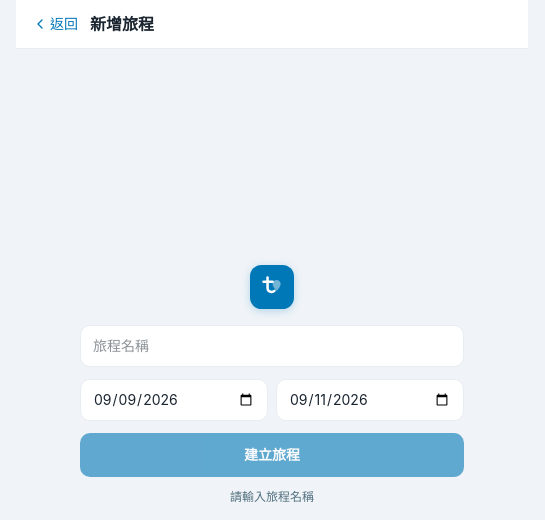
Test: NewTripPage › shows an error when creation fails
Type "東京" into the field with placeholder "旅程名稱" at point(272, 346), box [80,324,464,366]
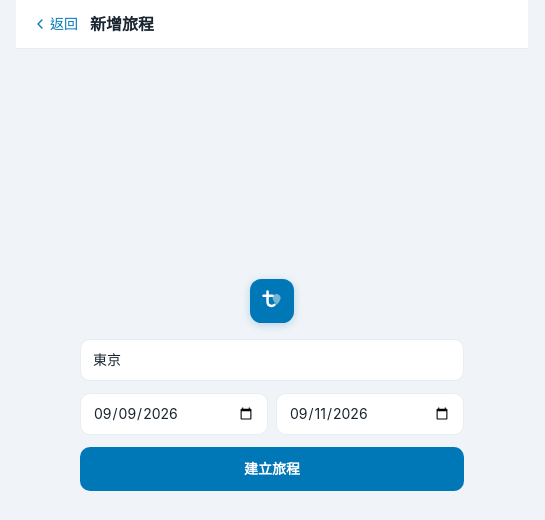
Type "2026-09-01" into the date field named "開始日期" at point(174, 414), box [80,392,268,434]
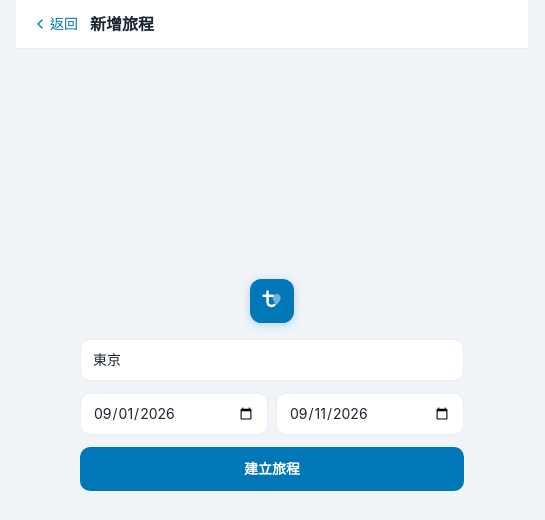
Type "2026-09-03" into the date field named "結束日期" at point(370, 414), box [276,392,464,434]
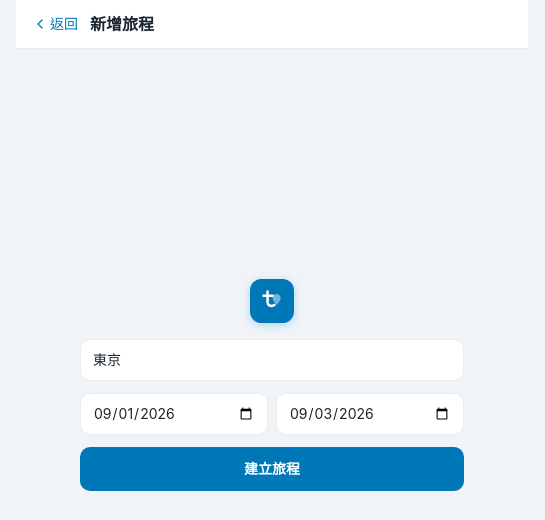
Click the button "建立旅程" at point(272, 468), box [80,446,464,490]
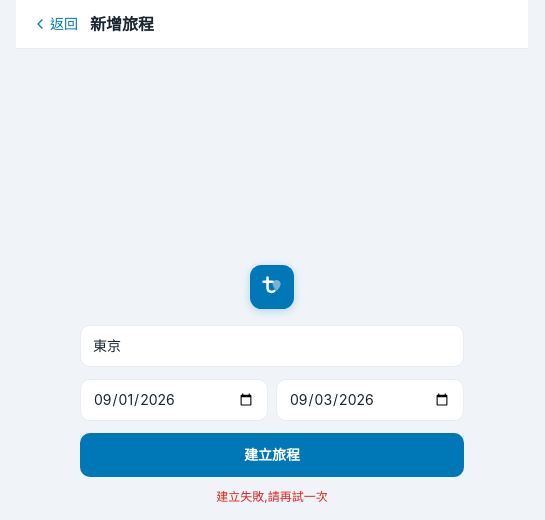
Result: the text "建立失敗,請再試一次" is shown at [216,488,328,504]
